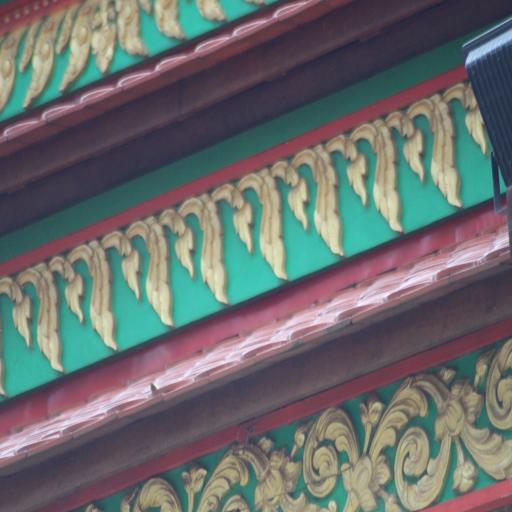la: (368, 344, 496, 512), (246, 398, 366, 512), (289, 128, 369, 265), (233, 152, 312, 287), (404, 83, 486, 212), (66, 226, 143, 357), (177, 182, 255, 310), (348, 109, 423, 236), (124, 197, 196, 329), (2, 268, 85, 372), (134, 443, 246, 512), (21, 4, 64, 110), (60, 0, 99, 91), (114, 0, 152, 64), (0, 14, 20, 128), (92, 0, 117, 69), (152, 0, 183, 44), (198, 0, 226, 32)
